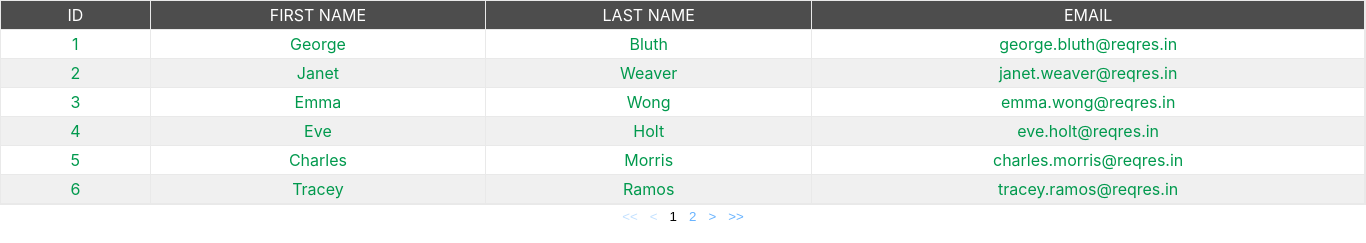
should able to navigate between pages
Click the button "2" at (693, 216), box [683,208,702,225]
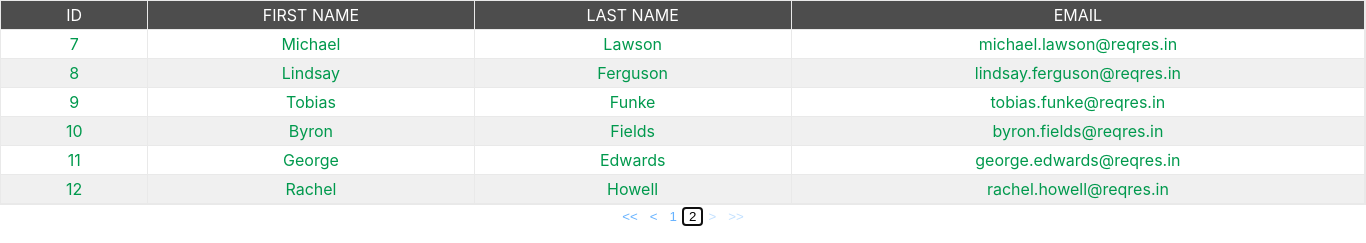
Expected: the row "12 Rachel Howell rachel.howell@reqres.in" is shown, [1,175,1365,204]
